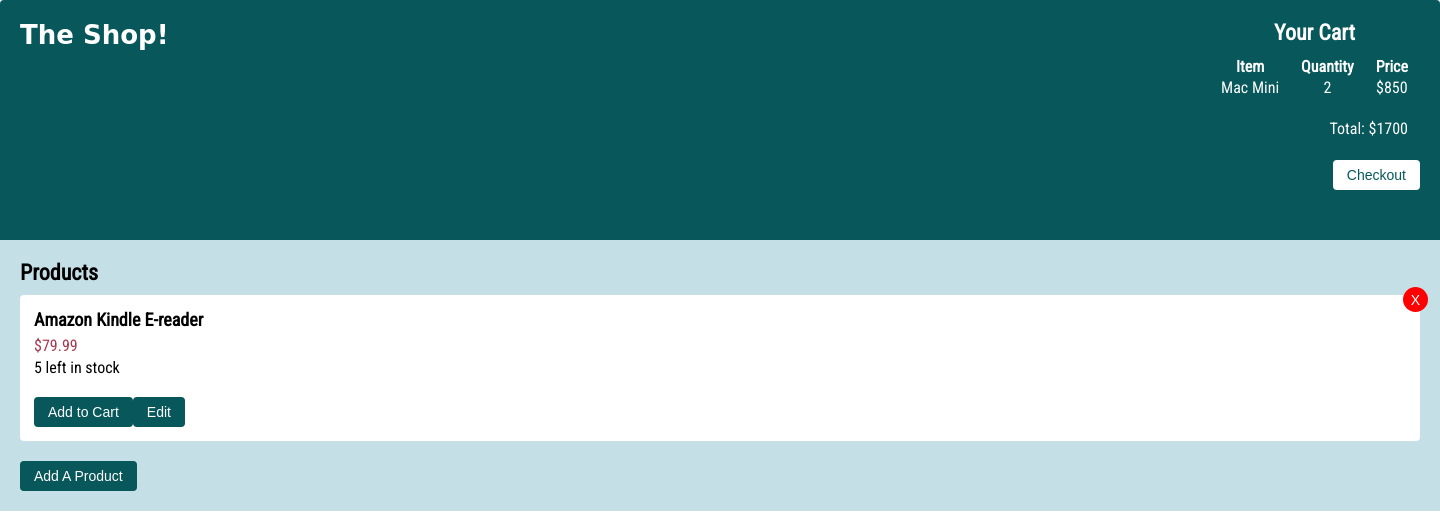
Test: Existing product that is delete from server is not rendered
Click the button "X" at [1416, 300], box [1403,287,1428,312]
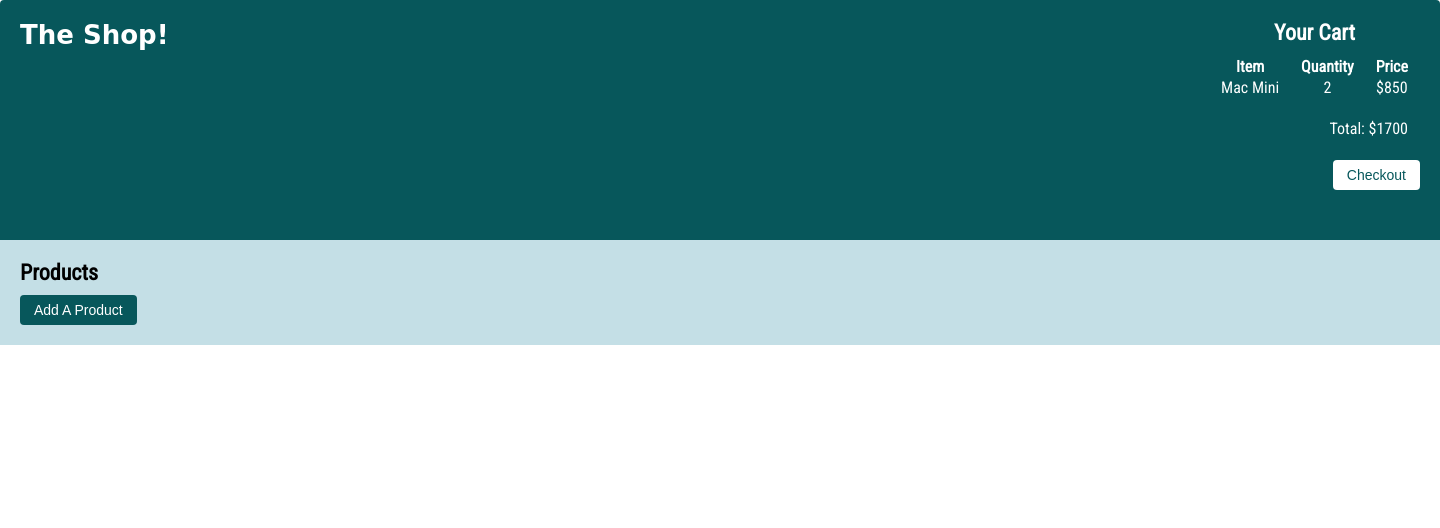
Now the heading "Amazon Kindle E-reader" is gone
